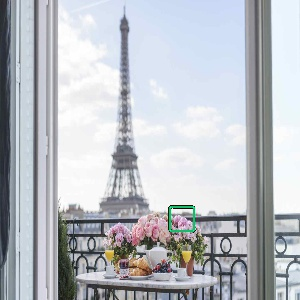square: (166, 202, 197, 236)
